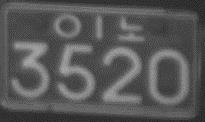0: (147, 47, 191, 106), (53, 12, 82, 39)
1: (88, 14, 112, 39)
2: (102, 45, 144, 106)
3: (11, 41, 50, 100)
5: (56, 43, 96, 102)
노: (118, 15, 145, 41)
